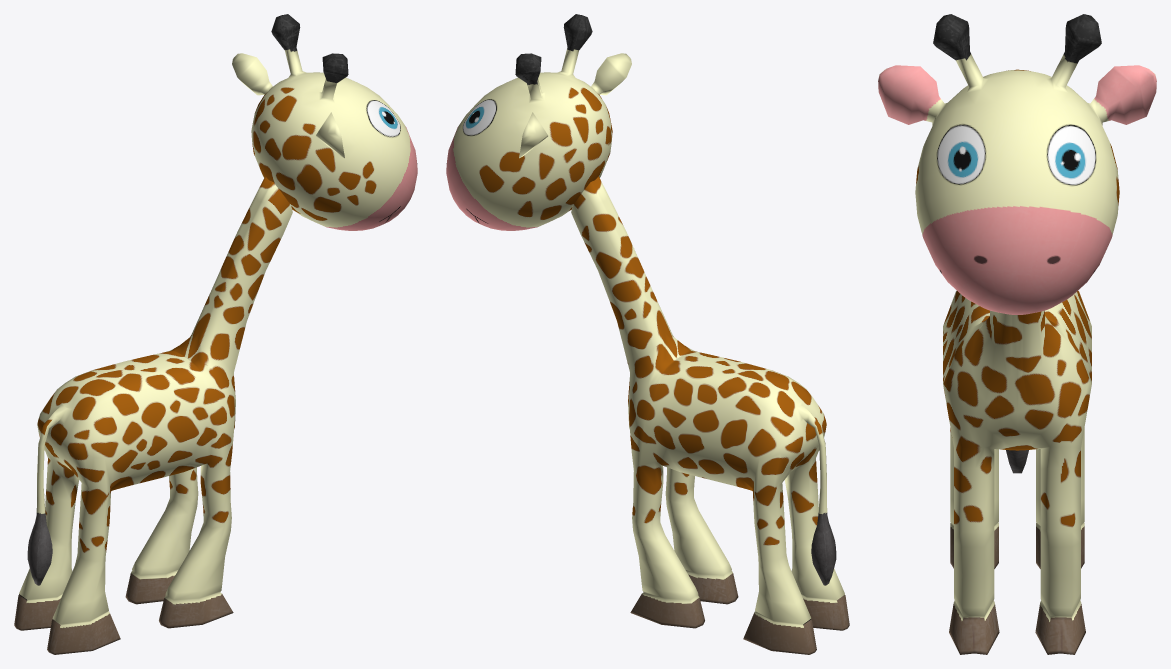
File: giraffe.obj
The picture shows the model from 3 angles, left to right: view 1: azimuth 30°, elevation 25°; view 2: azimuth 150°, elevation 25°; view 3: azimuth 270°, elevation 25°; orthographic projection. The views are drawn at different scales.
Parts seen in each view (by area): view 1: giraffe_Sphere.002; view 2: giraffe_Sphere.002; view 3: giraffe_Sphere.002.
Boxes of the visible parts, bbox=[...] form: giraffe_Sphere.002: bbox=[14, 14, 417, 654]; giraffe_Sphere.002: bbox=[446, 14, 849, 654]; giraffe_Sphere.002: bbox=[878, 14, 1156, 654].
Bounding box in the file's own units: 1.1 × 1.5 × 0.54.
Materials: 1 (1 with a texture image).
